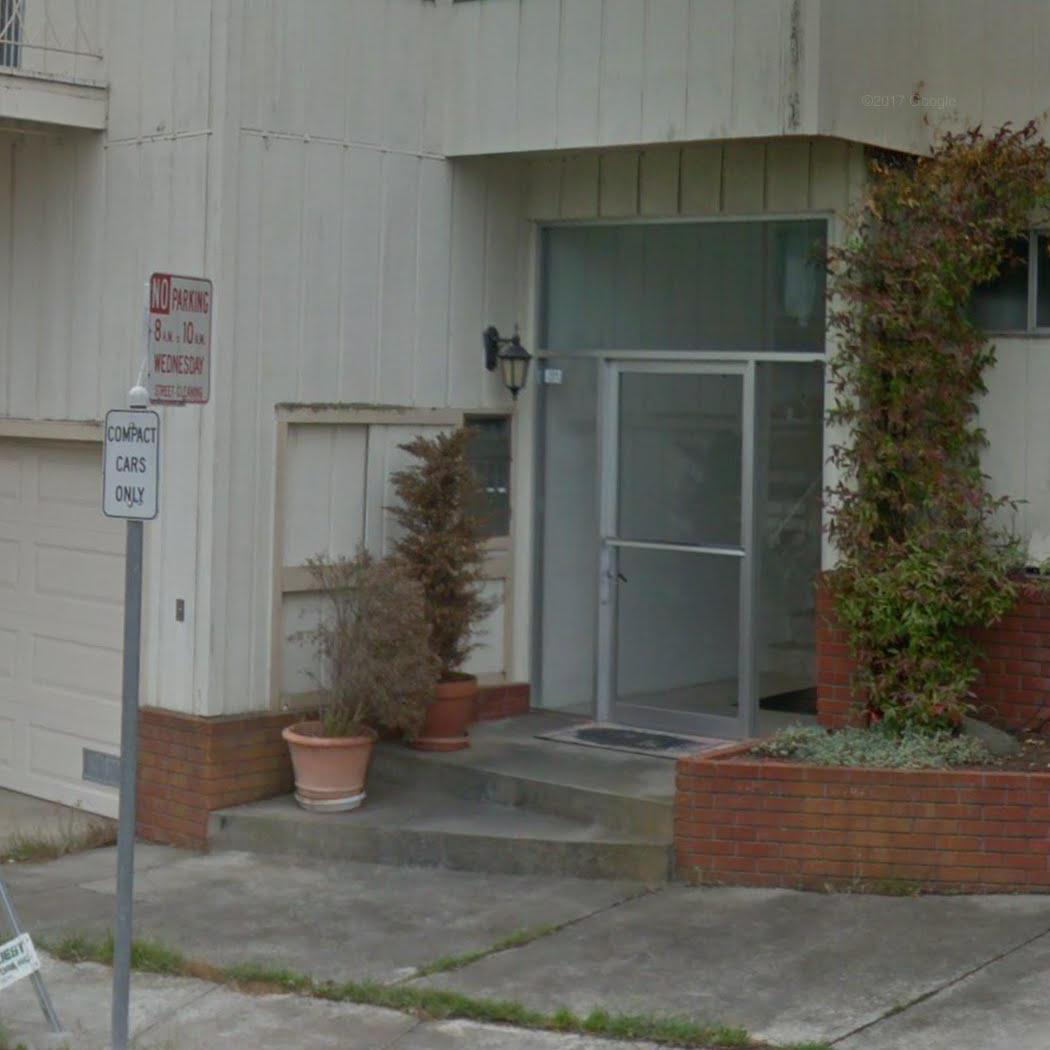No Parking: (141, 266, 217, 412)
